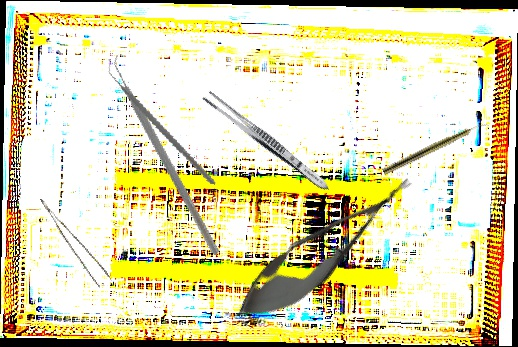Chopper: (55, 47, 283, 256), (84, 59, 240, 185)
Dressing Forceps: (199, 88, 334, 195)
Handpiece: (381, 118, 490, 177)
Micro Scissor: (223, 159, 426, 339)
Tissue Forceps: (40, 189, 112, 291)
